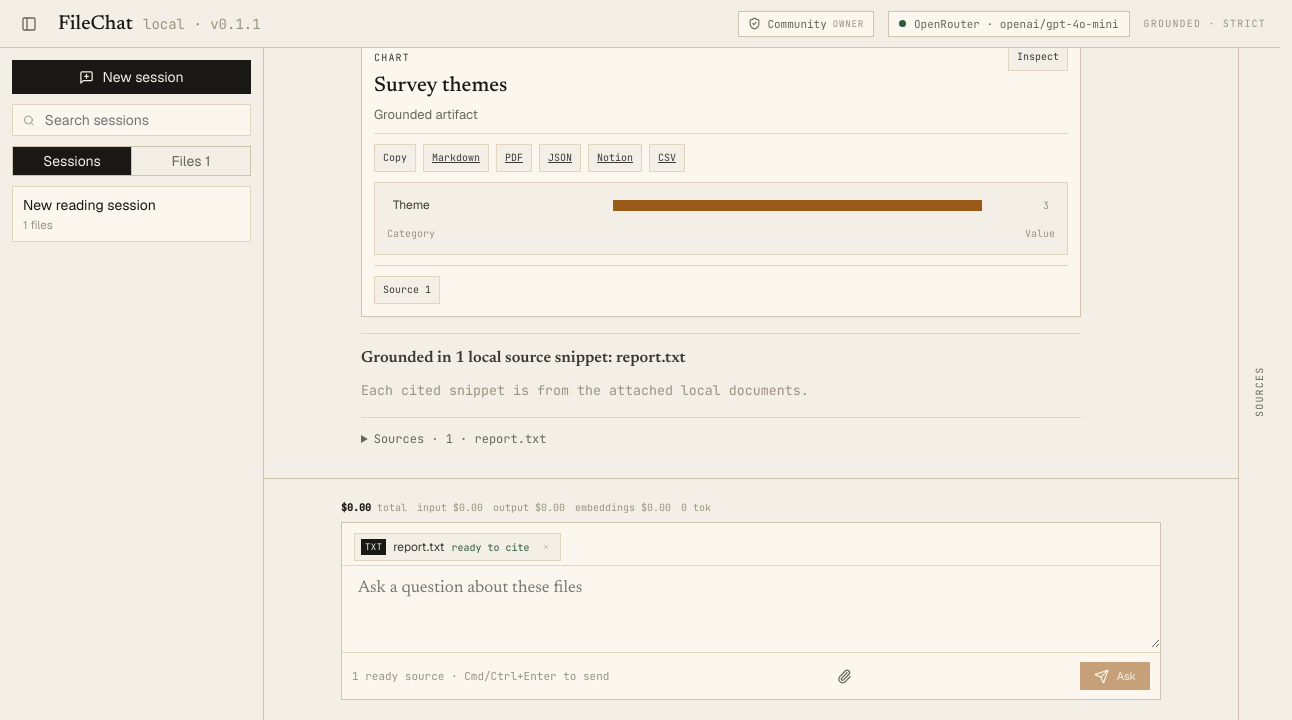
Test case: App › keeps supporting artifacts out of the transcript but available in the artifacts panel
(page scrolled)
Check: the heading "Survey themes" is shown, box 374,70 -> 507,104
Check: the text "Survey data preview" is not shown
Click the button "Sources". click: (1260, 392)
box: 1252,64 -> 1267,719
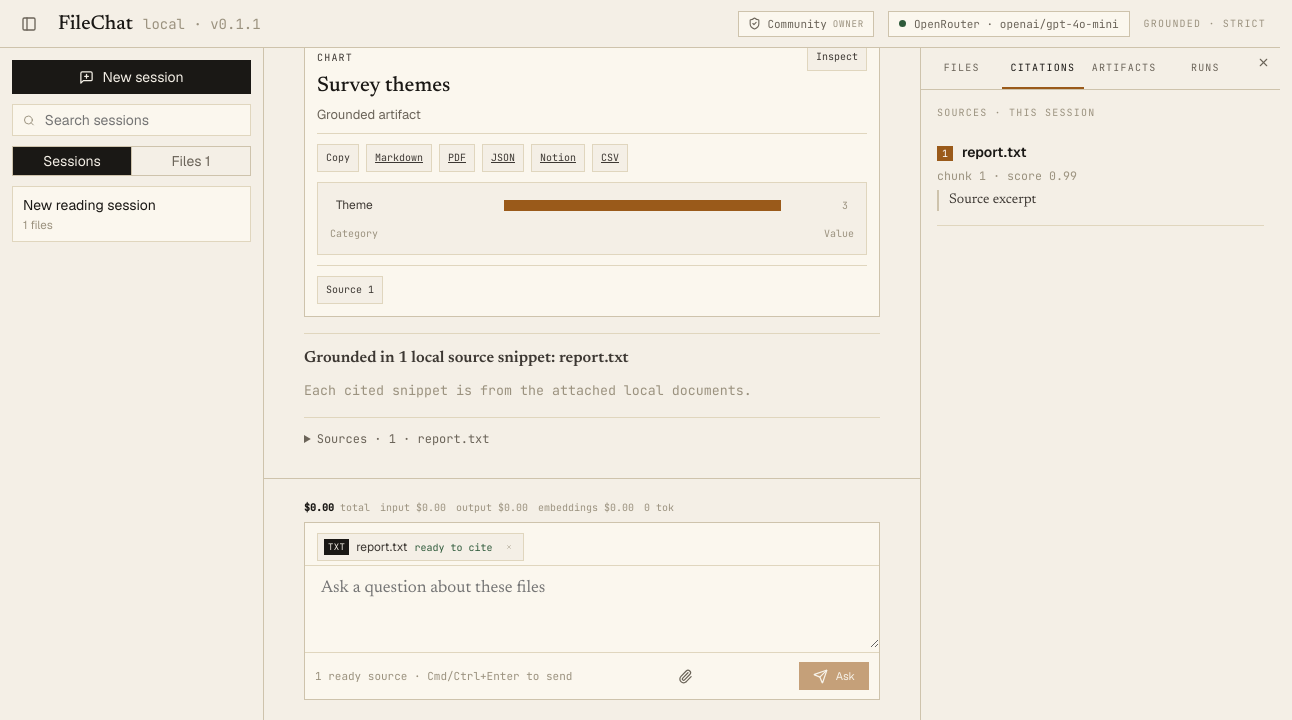
Click the button "artifacts". click: (1124, 68)
box: 1084,48 -> 1165,89
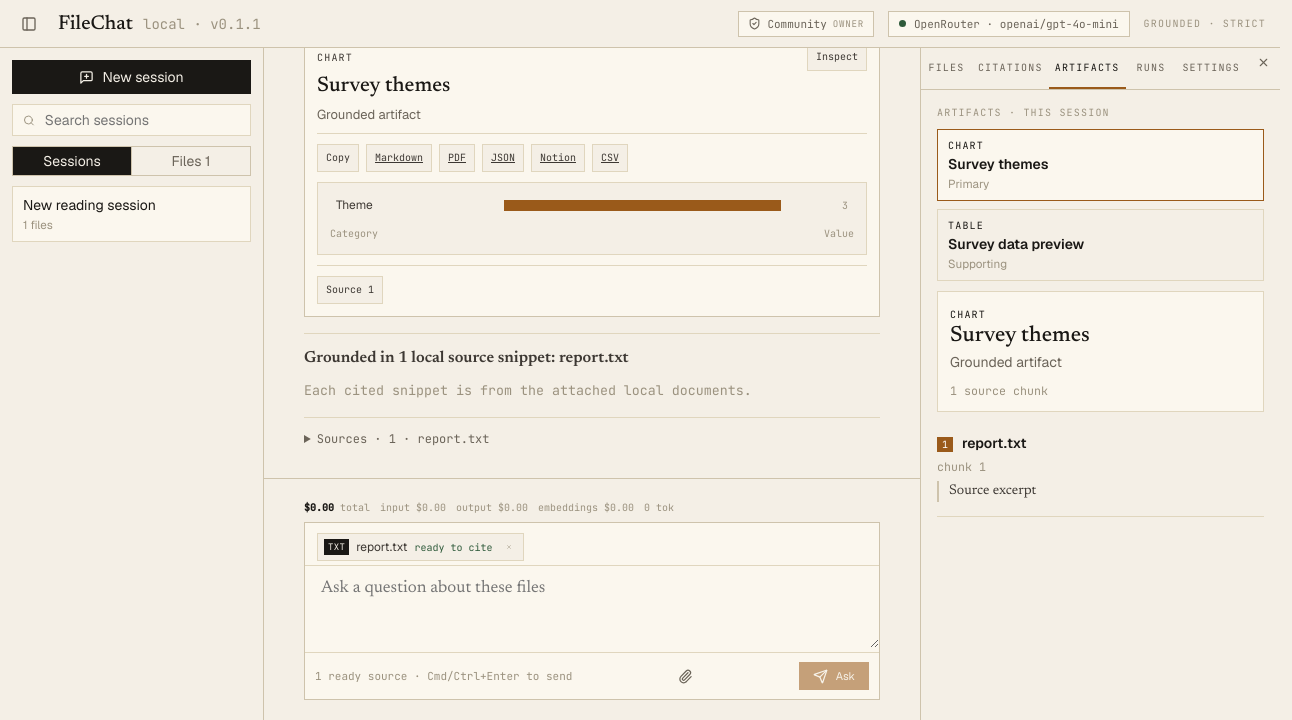
Check: the element named "Artifact list" shows "Survey data preview", box 937,209 -> 1264,281
